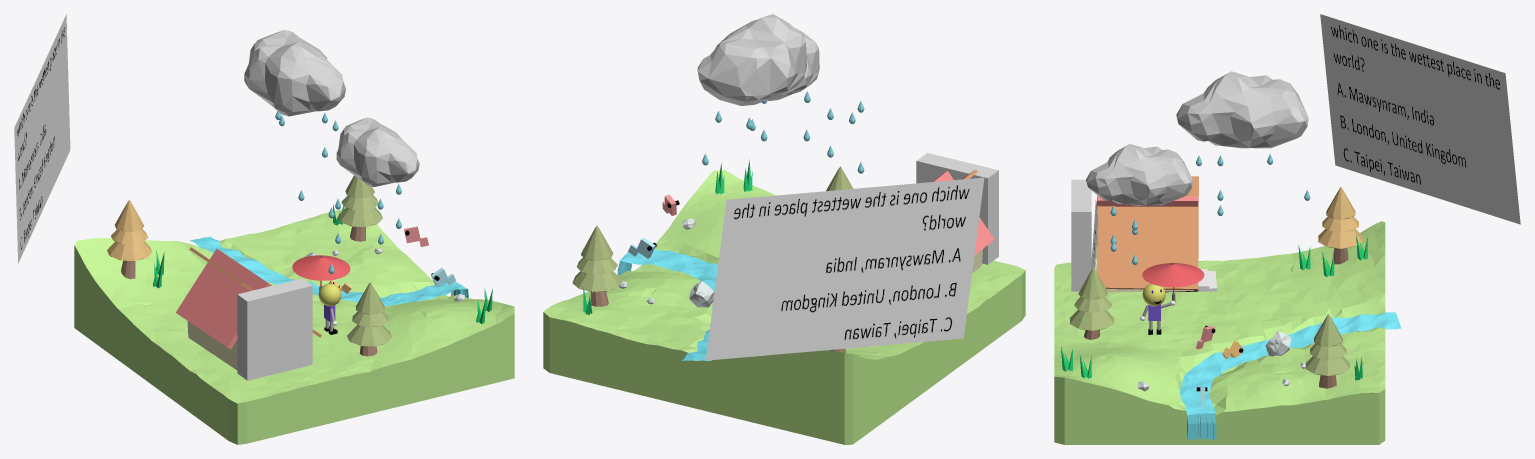
The model's file is rainQ3.glb.
3 renders of one model, left to right at view 1: azimuth 30°, elevation 25°; view 2: azimuth 150°, elevation 25°; view 3: azimuth 270°, elevation 25°, orthographic. The views are drawn at different scales.
Visible parts, largest first — view 1: terrain, pPlane2, Cube, cloud, house:pCube6, clouds:pPlatonic1, water, umbrella:Mesh, house:pCube4, pCylinder1, trees:pCylinder8, trees:pCylinder1 (+2 smaller); view 2: terrain, pPlane2, cloud, Cube, water, clouds:pPlatonic1, trees:pCylinder1, trees:pCylinder4, trees:pCylinder3, stone:pPlatonic2, house:pCube6; view 3: terrain, pPlane2, cloud, house:pCube5, clouds:pPlatonic1, water, Cube, umbrella:Mesh, pCylinder1, trees:pCylinder8, trees:pCylinder1, trees:pCylinder7 (+7 smaller).
Boxes of the visible parts, x1,y1,x2,y2 form: terrain: (74,209,514,444); pPlane2: (14,14,70,263); Cube: (237,278,312,380); cloud: (244,30,345,116); house:pCube6: (175,248,271,349); clouds:pPlatonic1: (336,117,419,186); water: (189,236,468,306); umbrella:Mesh: (292,255,350,286); house:pCube4: (187,321,237,369); pCylinder1: (347,324,392,346); trees:pCylinder8: (107,241,152,260); trees:pCylinder1: (338,207,382,226); terrain: (543,169,1025,444); pPlane2: (705,177,984,360); cloud: (697,14,806,105); Cube: (916,153,998,264); water: (617,249,717,360); clouds:pPlatonic1: (767,27,819,100); trees:pCylinder1: (572,271,622,292); trees:pCylinder4: (581,226,613,260); trees:pCylinder3: (576,257,617,274); stone:pPlatonic2: (689,281,714,307); house:pCube6: (933,171,994,255); terrain: (1054,221,1385,444); pPlane2: (1320,14,1520,224); cloud: (1176,71,1308,148); house:pCube5: (1097,176,1198,290); clouds:pPlatonic1: (1086,144,1192,205); water: (1180,312,1400,440); Cube: (1071,179,1091,291); umbrella:Mesh: (1142,263,1204,294); pCylinder1: (1069,310,1114,330); trees:pCylinder8: (1318,228,1362,248); trees:pCylinder1: (1305,356,1350,375); trees:pCylinder7: (1326,187,1355,219).
Size of the model in its own units: 0.4613 by 0.3485 by 0.4738.
Materials: 30 (3 with a texture image).
